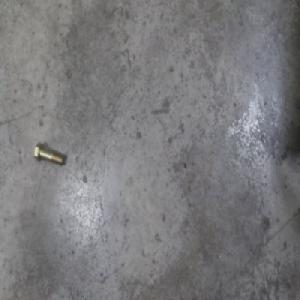Bolt: (34, 141, 64, 169)
